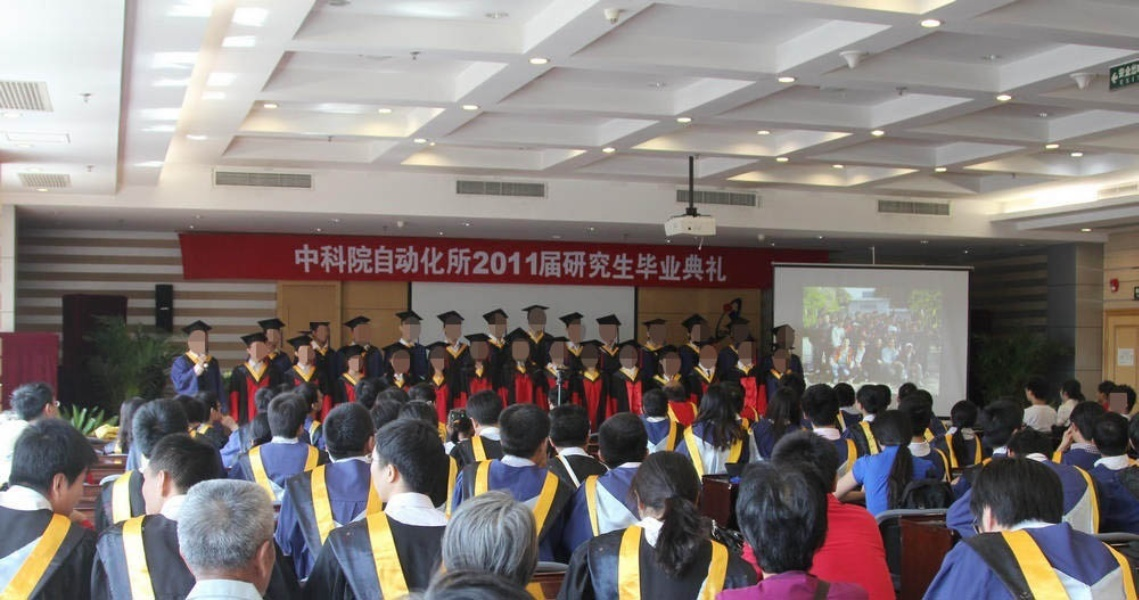text: (305, 241, 320, 284), (321, 241, 336, 284), (337, 241, 352, 284), (353, 241, 368, 284), (369, 241, 384, 284), (385, 241, 400, 284), (401, 241, 416, 284), (417, 241, 432, 284), (433, 241, 448, 284), (449, 241, 464, 284), (465, 241, 480, 284), (481, 241, 496, 284), (497, 241, 512, 284), (513, 241, 528, 284), (529, 241, 544, 284), (545, 241, 560, 284), (561, 241, 576, 284), (577, 241, 592, 284), (593, 241, 608, 284), (609, 241, 624, 284), (625, 241, 640, 284), (641, 241, 656, 284), (657, 241, 672, 284), (673, 241, 688, 284), (689, 241, 704, 284), (705, 241, 720, 284), (294, 241, 304, 284), (721, 241, 728, 284)
